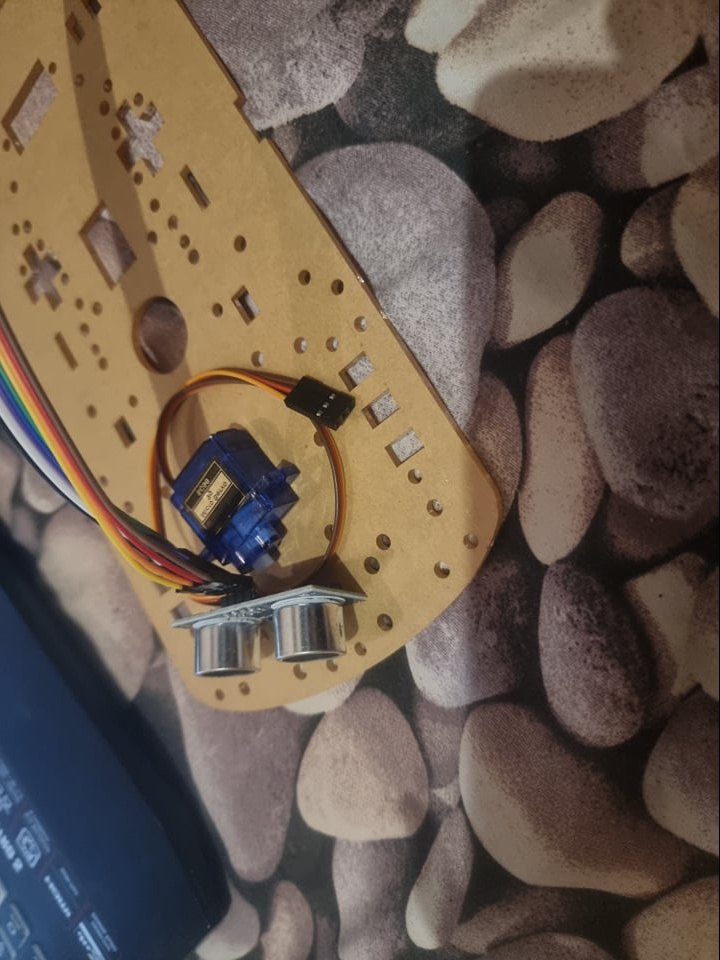SENSOR: (171, 593, 363, 680)
